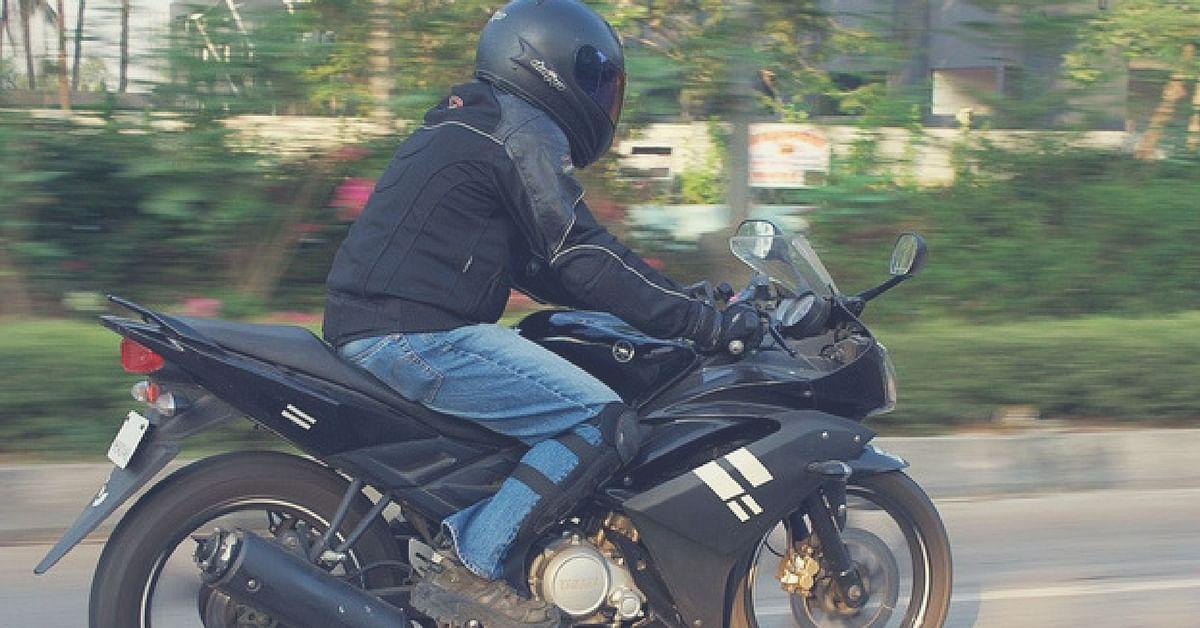helmet: (451, 0, 620, 179)
